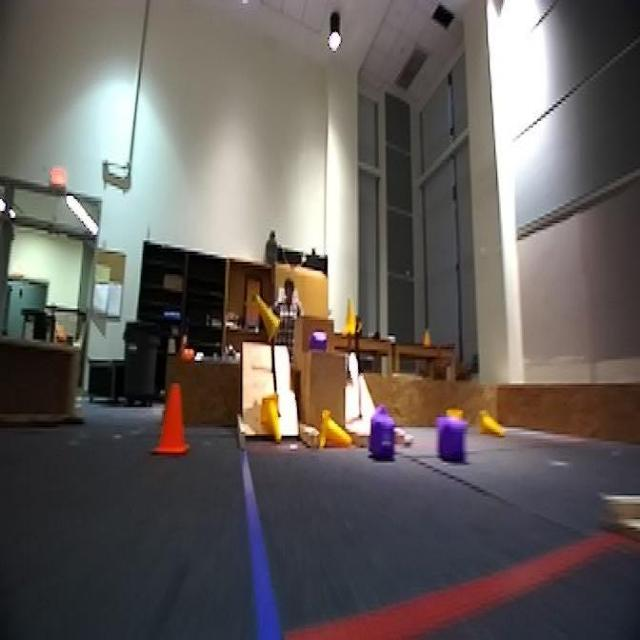frc_cone: (316, 409, 354, 456), (254, 296, 286, 339), (256, 395, 284, 444), (480, 408, 509, 436), (342, 293, 360, 337)
frc_cube: (432, 414, 468, 469), (366, 410, 399, 461), (310, 328, 330, 352)
